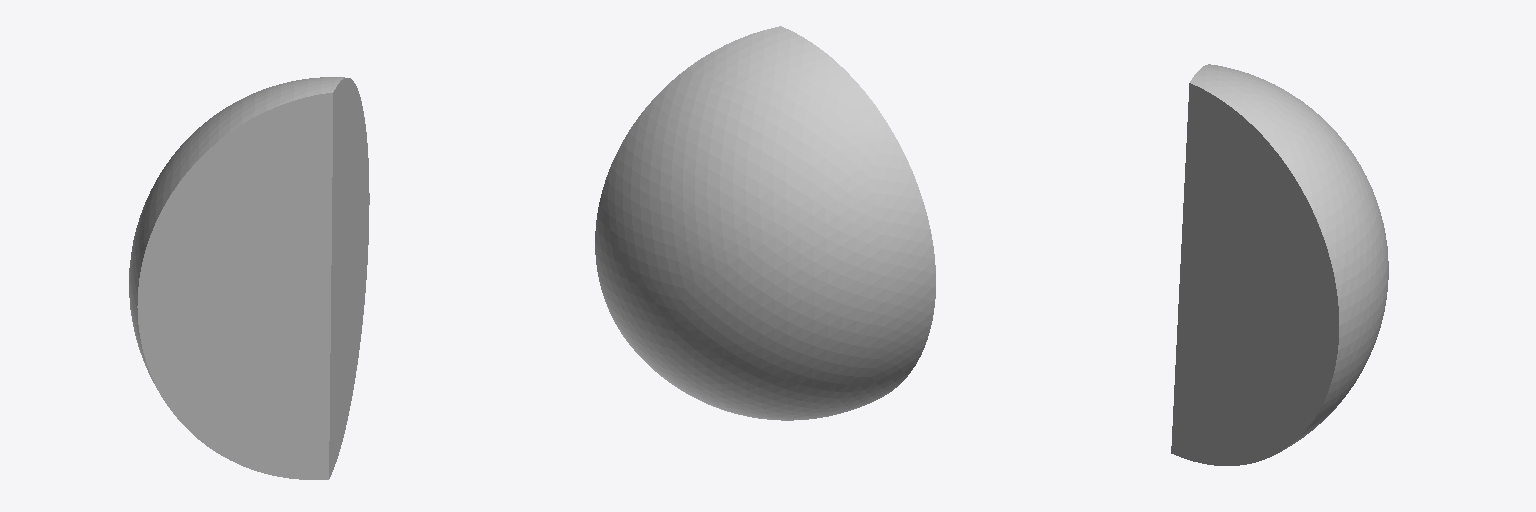
The model's file is sliced_ball4.obj.
3 renders of one model, left to right at view 1: azimuth 30°, elevation 25°; view 2: azimuth 150°, elevation 25°; view 3: azimuth 270°, elevation 25°, orthographic.
Parts seen in each view (by area): view 1: Object.1, Object.2; view 2: Object.1; view 3: Object.1, Object.2.
Part boxes in pixels (bbox=[...]): Object.1: bbox=[129, 77, 369, 470]; Object.2: bbox=[257, 92, 333, 479]; Object.1: bbox=[595, 26, 935, 420]; Object.1: bbox=[1191, 64, 1388, 465]; Object.2: bbox=[1171, 81, 1190, 460].
Bounding box in the file's own units: 0.7931 × 0.9988 × 0.5219.